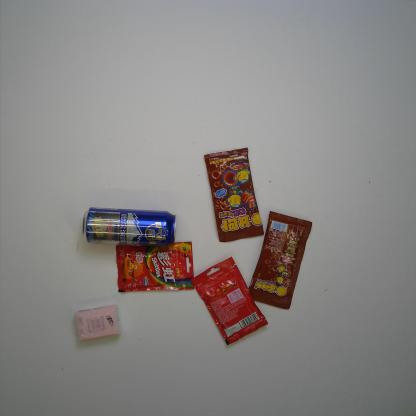Alcohol: (80, 206, 178, 248)
Candy: (191, 255, 270, 347), (248, 210, 313, 310), (204, 147, 264, 243), (115, 240, 195, 294)
Tissue: (74, 302, 122, 342)
